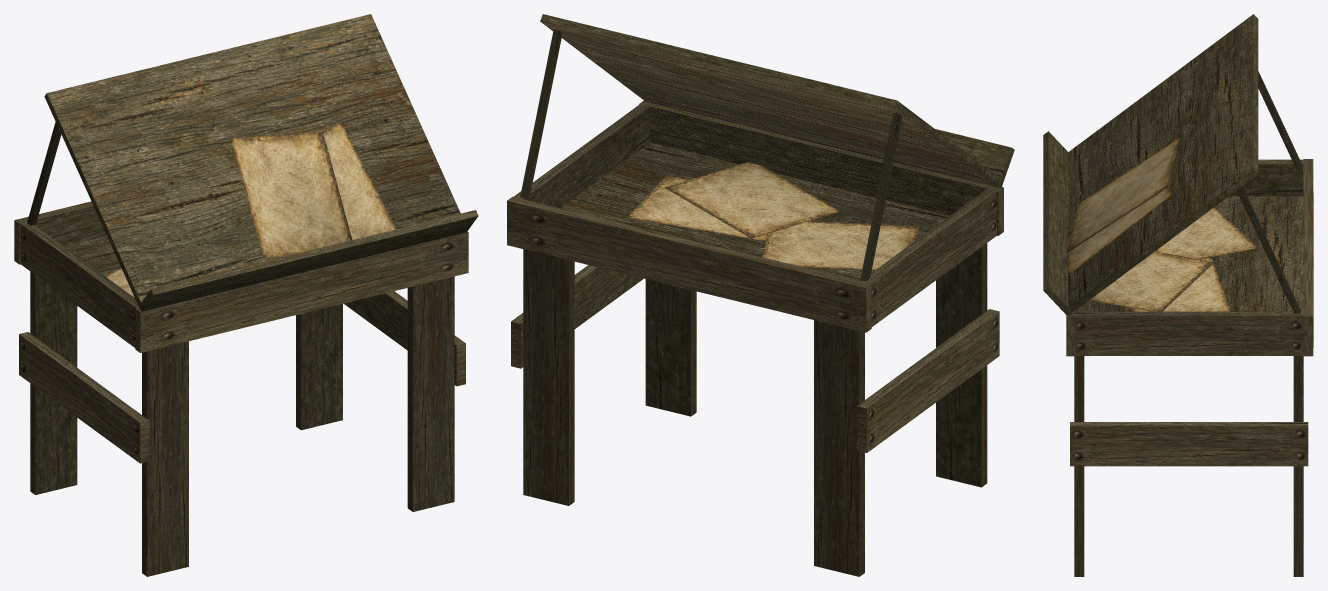
Rendered from mm9_deco_desk03.glb.
3 renders of one model, left to right at view 1: azimuth 30°, elevation 25°; view 2: azimuth 150°, elevation 25°; view 3: azimuth 270°, elevation 25°, orthographic. The views are drawn at different scales.
Visible parts, largest first — view 1: Desk03; view 2: Desk03; view 3: Desk03.
Boxes of the visible parts, x1,y1,x2,y2 form: Desk03: (14,14,478,576); Desk03: (507,14,1014,576); Desk03: (1043,14,1313,576).
Size of the model in its own units: 1.6 by 1.95 by 1.16.
Materials: 2 (2 with a texture image).
